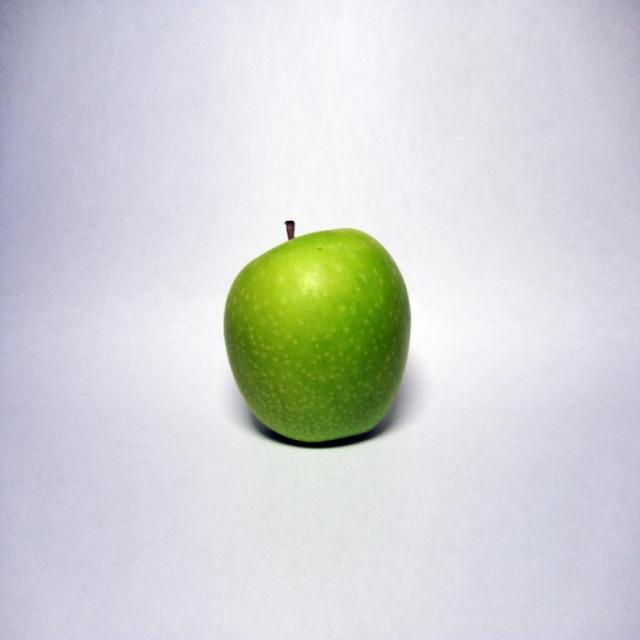Apple: (222, 220, 412, 443)
